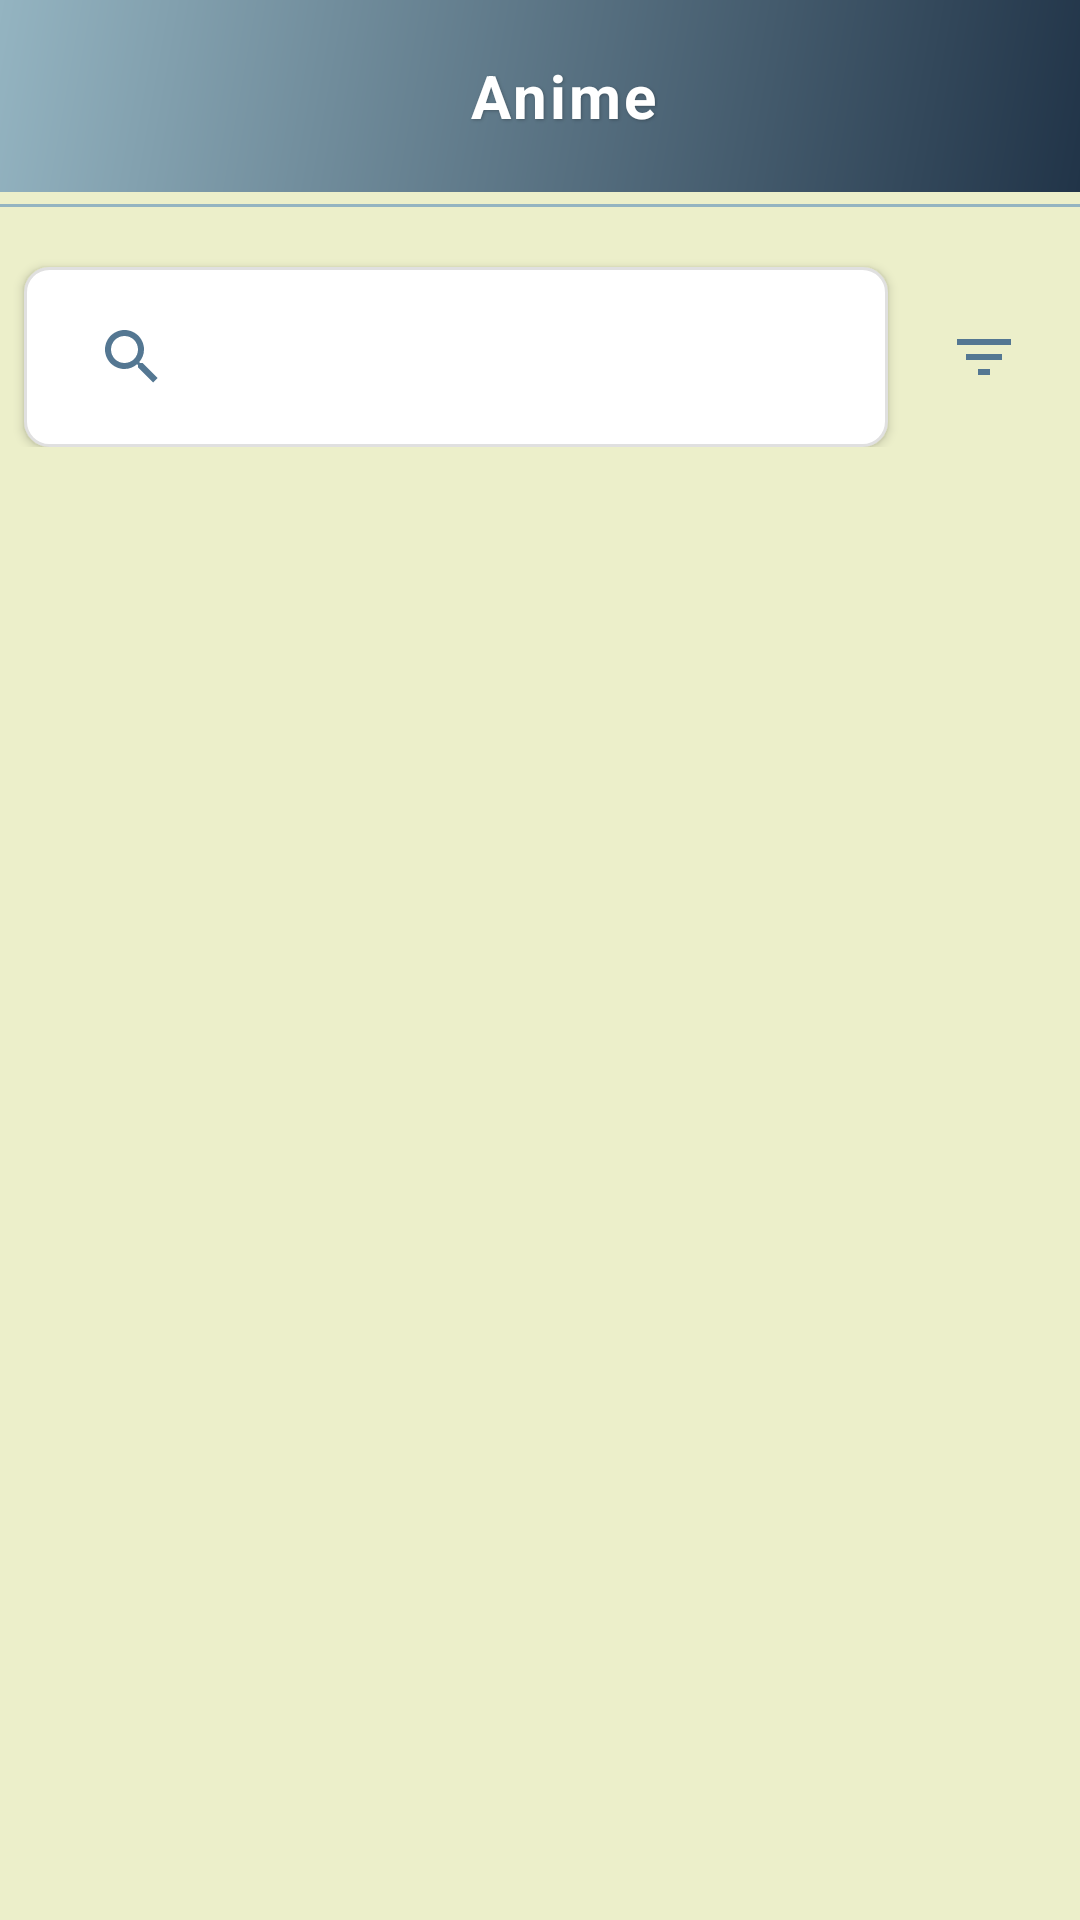

Named icons in this screenshot (1080px x 1920px) and their centers, (x,y):
Filter: (984,357)
